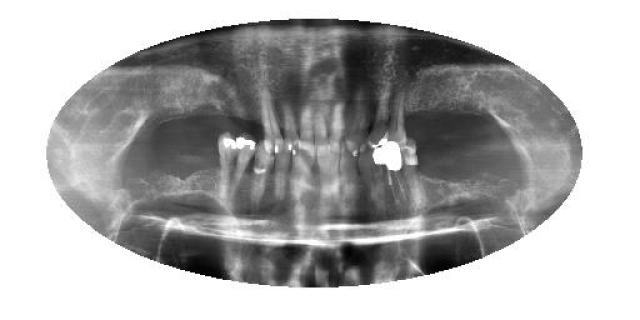Fillings: (232, 132, 258, 194), (218, 130, 236, 198)
Implant: (372, 141, 408, 210)
